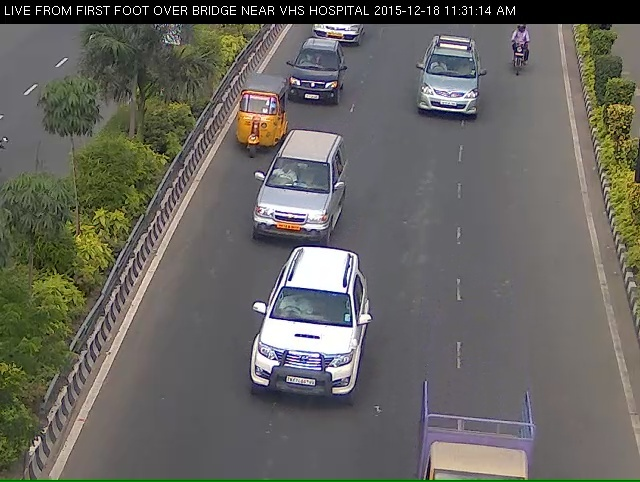Car: (248, 268, 366, 440), (258, 144, 342, 263), (416, 35, 492, 136), (284, 45, 345, 118), (233, 82, 282, 167)
Person: (507, 29, 538, 84)
